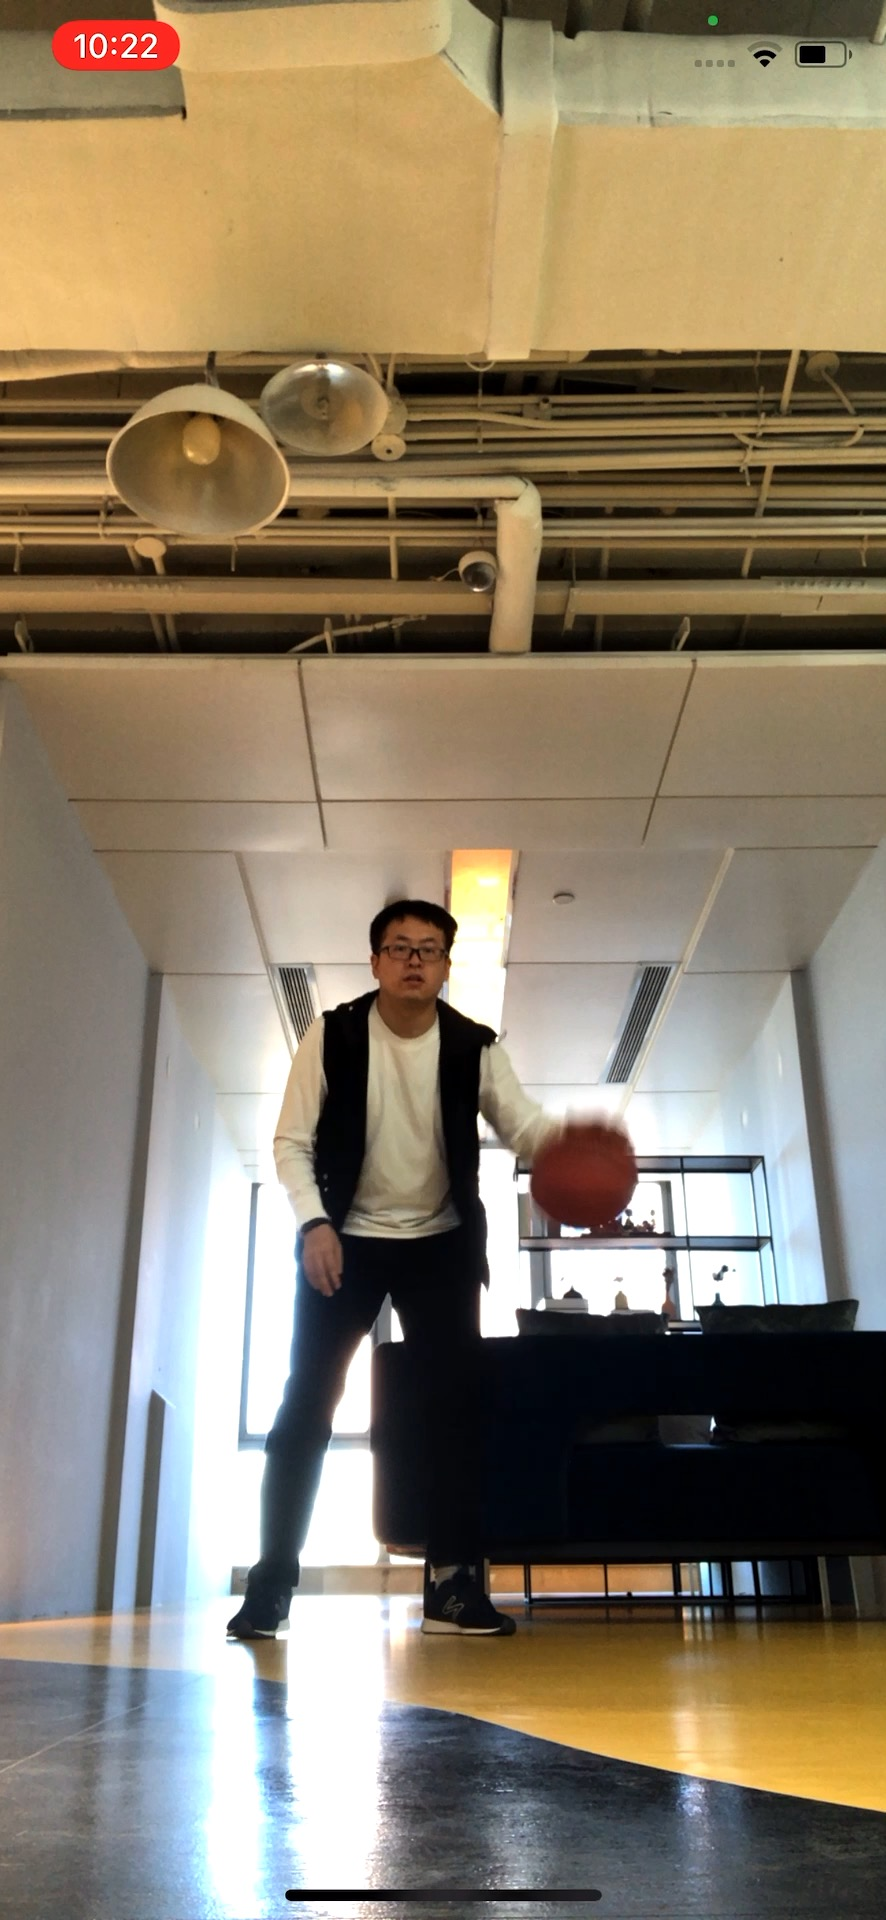ball: (527, 1119, 639, 1227)
